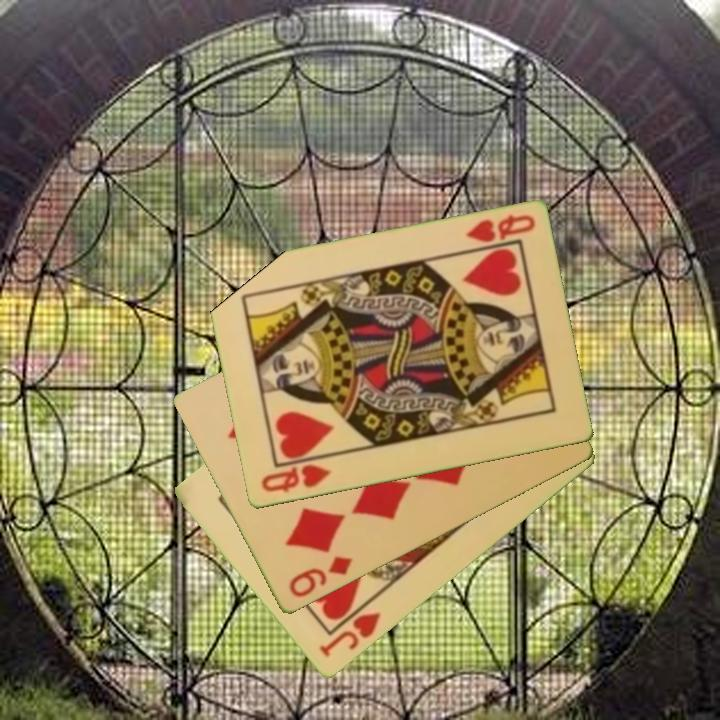9d: (285, 552, 356, 601)
Jh: (315, 609, 384, 661)
Qh: (257, 461, 334, 497), (462, 212, 538, 247)
